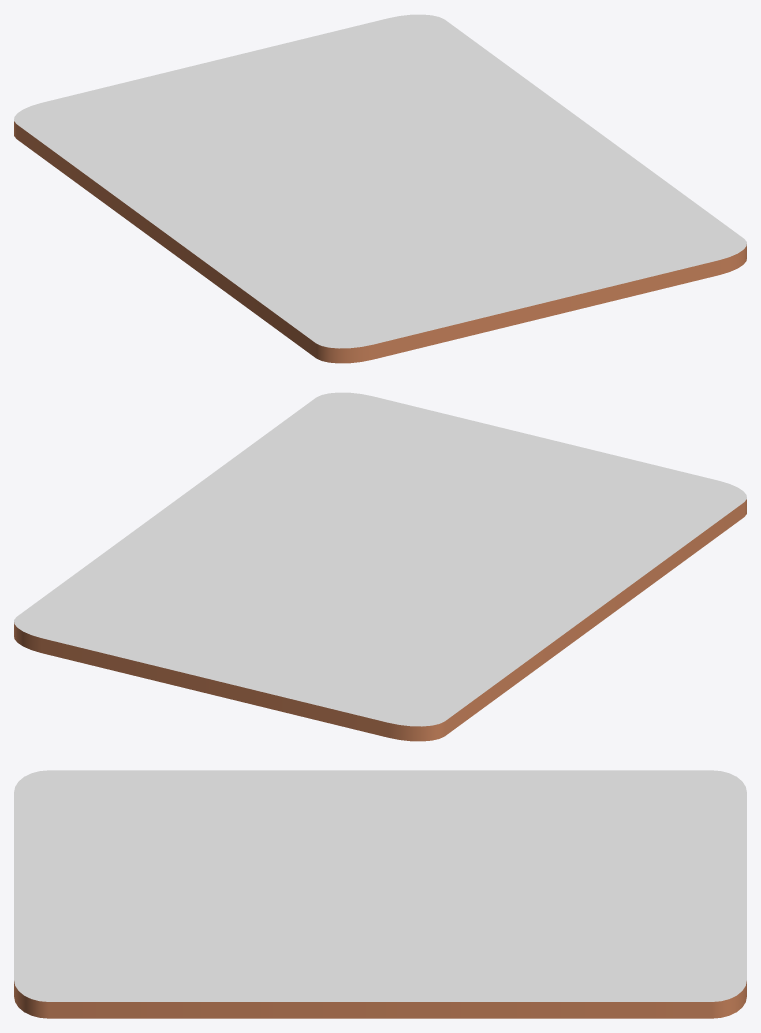
Rendered from Table.fbx.
The picture shows the model from 3 angles, top to bottom: view 1: azimuth 30°, elevation 25°; view 2: azimuth 150°, elevation 25°; view 3: azimuth 270°, elevation 25°; orthographic projection. The views are drawn at different scales.
Visible parts, largest first — view 1: Table; view 2: Table; view 3: Table.
Boxes of the visible parts, <box> form: Table: <box>14,14,746,363</box>; Table: <box>14,392,746,741</box>; Table: <box>14,770,746,1018</box>.
Size of the model in its own units: 5983 by 200 by 8000.
